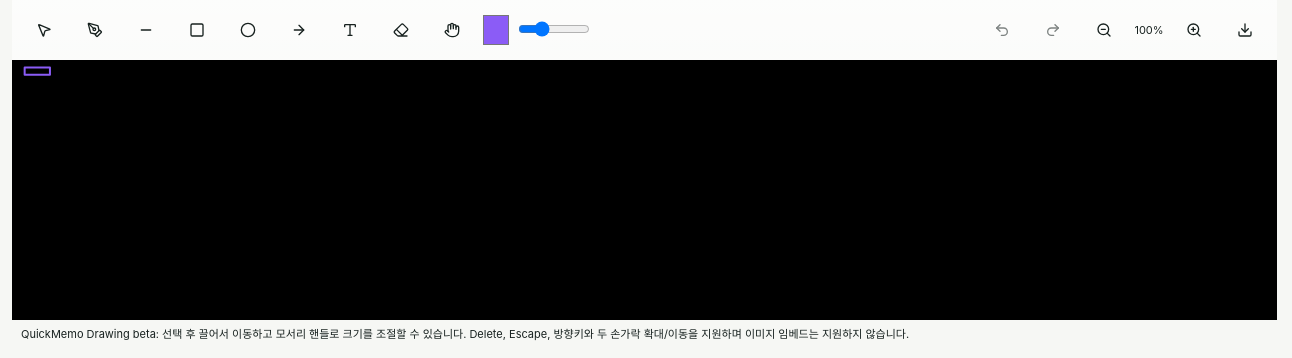
Test: DrawingView › supports a two-pointer touch zoom gesture without mutating source
This screenshot has width=1292, height=358.
Press the mouse on the icon named "Drawing 캔버스" at (644, 190), box [12, 60, 1277, 320]
Press the mouse on the icon named "Drawing 캔버스" at (644, 190), box [12, 60, 1277, 320]
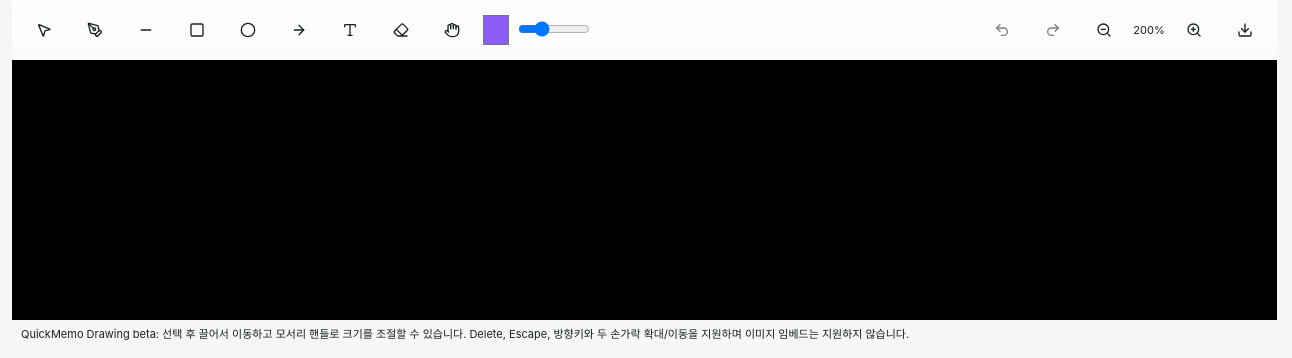
Result: the text named "확대 비율" reads "200%" at [1131, 23, 1167, 37]
